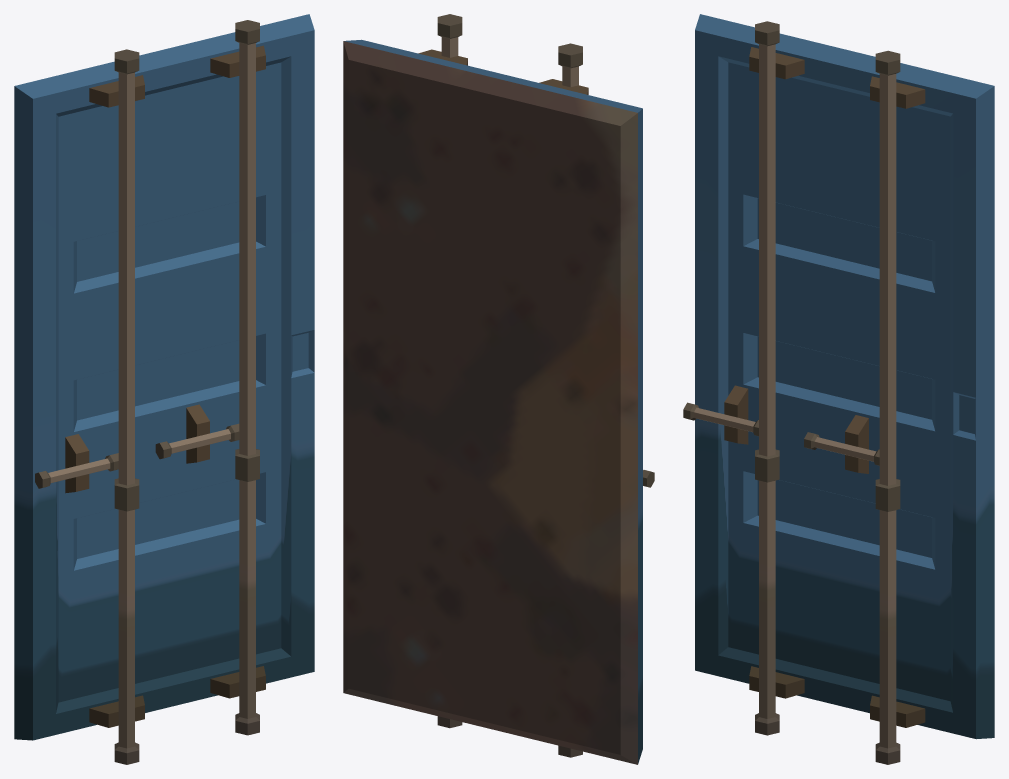
File: SM_Prop_Shipping_Container_Door_03.obj
3 views of the same model, side by side, from view 1: azimuth 30°, elevation 25°; view 2: azimuth 150°, elevation 25°; view 3: azimuth 330°, elevation 25° (orthographic).
Visible parts, largest first — view 1: SM_Prop_Shipping_Container_Door_03_0; view 2: SM_Prop_Shipping_Container_Door_03_0; view 3: SM_Prop_Shipping_Container_Door_03_0.
Part boxes in pixels (x1=…): SM_Prop_Shipping_Container_Door_03_0: x1=14, y1=14, x2=314, y2=764; SM_Prop_Shipping_Container_Door_03_0: x1=343, y1=14, x2=654, y2=764; SM_Prop_Shipping_Container_Door_03_0: x1=683, y1=14, x2=994, y2=764.
Size of the model in its own units: 1.07 by 2.44 by 0.2181.
Materials: 1 (1 with a texture image).
